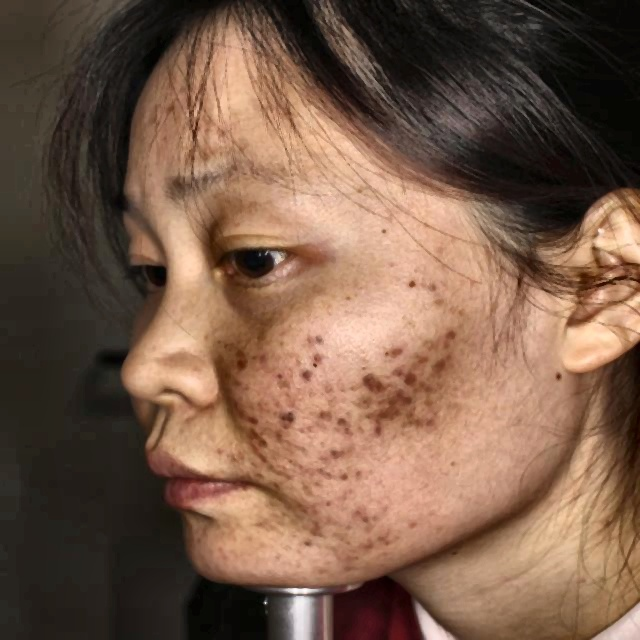pustule: (312, 399, 353, 426), (353, 528, 385, 558), (424, 350, 450, 381), (398, 369, 420, 394), (324, 445, 347, 468), (368, 401, 394, 421), (364, 367, 382, 391), (248, 421, 264, 448)
